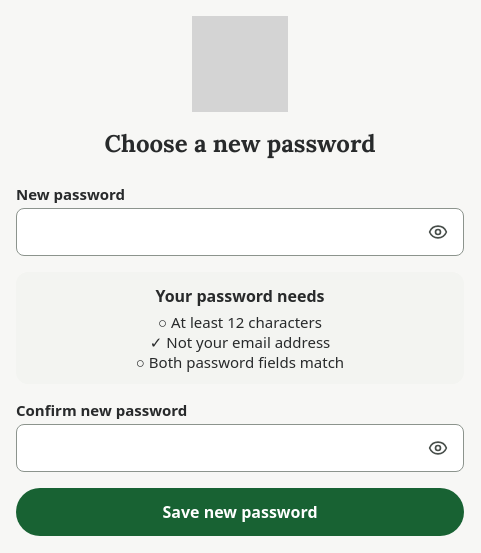
it: reset submission › maps auth/expired-action-code to its link status
This screenshot has width=481, height=553.
Type "a-long-password" into the password field labelled "New password".
click(240, 232); type("a-long-password")  # box left=16, top=208, right=464, bottom=256
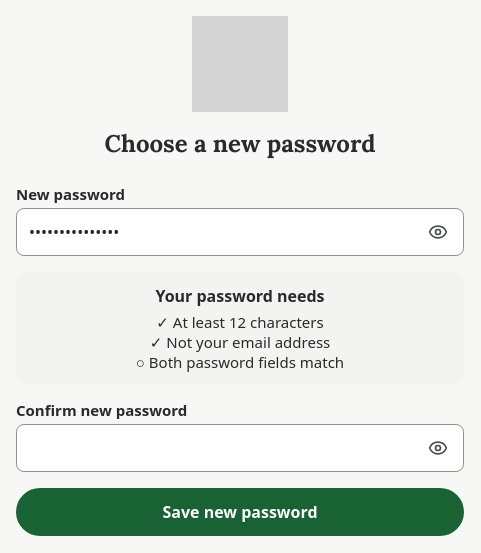
Type "a-long-password" into the password field labelled "Confirm new password".
click(240, 448); type("a-long-password")  # box left=16, top=424, right=464, bottom=472
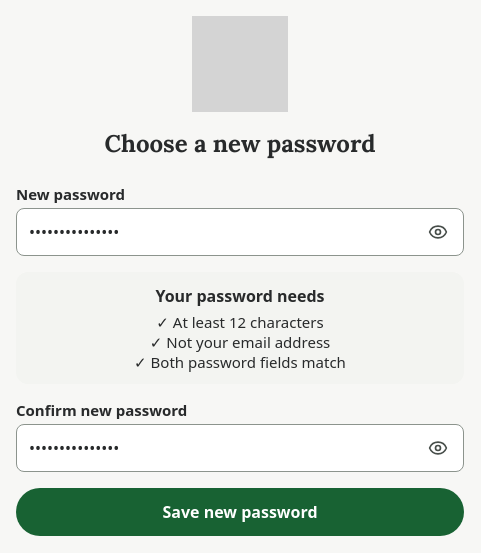
Click the button "Save new password".
click(240, 512)  # box left=16, top=488, right=464, bottom=536
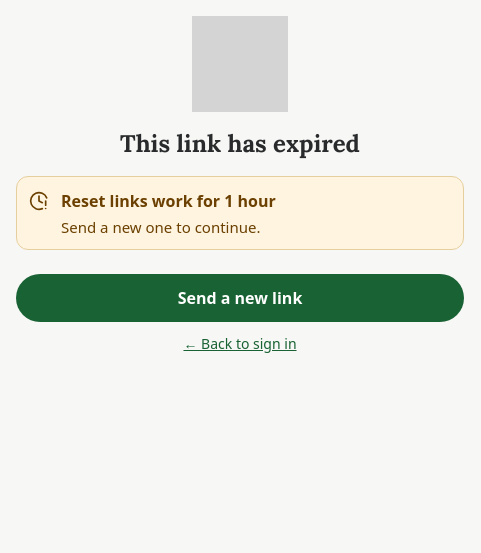
Expected: the heading "This link has expired" is shown, left=120, top=128, right=360, bottom=159
